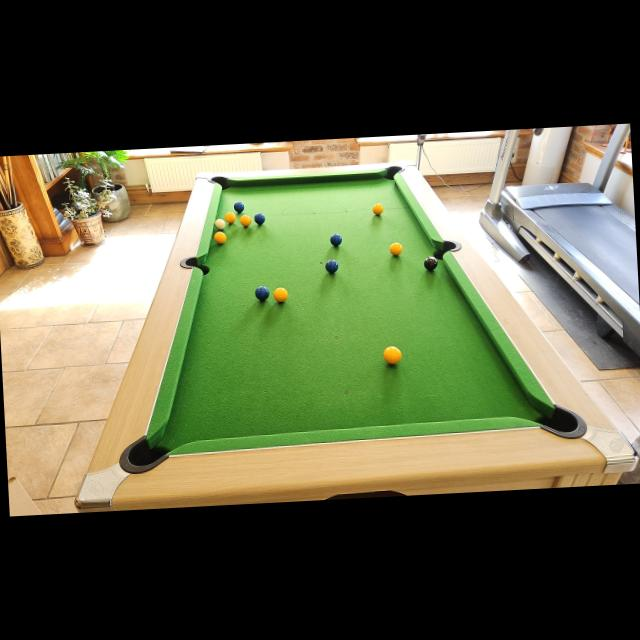Ball: (383, 345, 402, 365), (273, 287, 288, 303), (255, 286, 270, 300), (389, 242, 404, 256), (325, 259, 339, 274), (424, 256, 438, 270), (214, 231, 227, 245), (224, 211, 237, 224), (330, 233, 342, 247), (240, 215, 252, 228), (372, 202, 384, 215), (253, 213, 266, 225), (233, 201, 245, 213), (216, 218, 227, 230)
